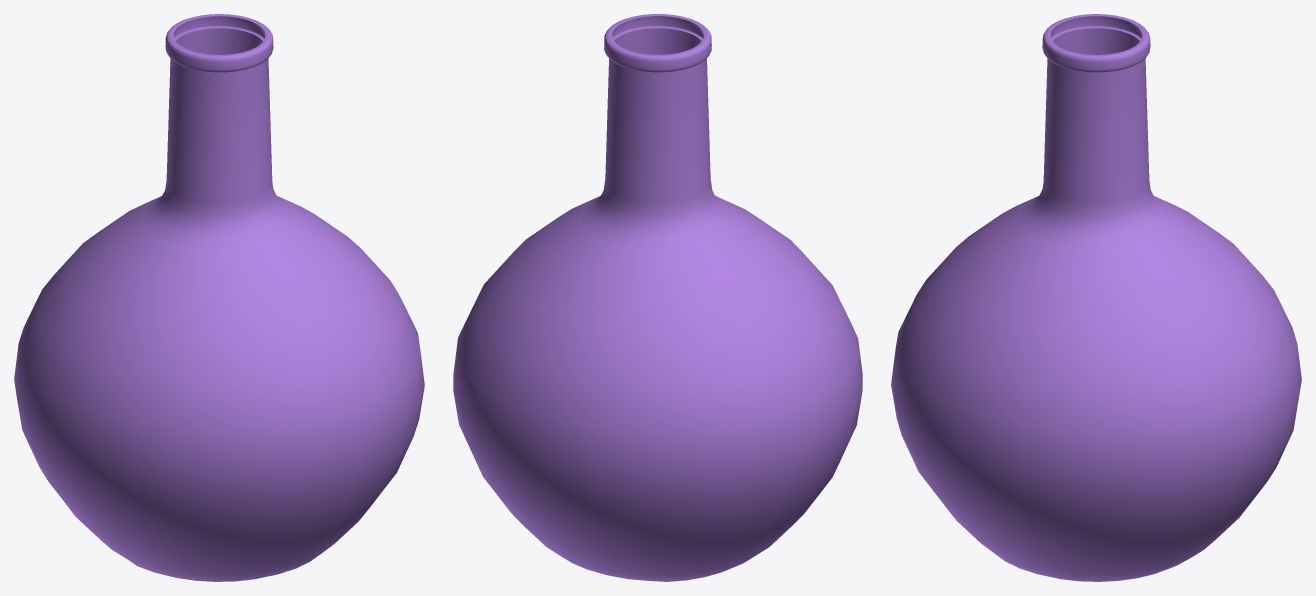
Rendered from Vase.fbx.
3 renders of one model, left to right at view 1: azimuth 30°, elevation 25°; view 2: azimuth 150°, elevation 25°; view 3: azimuth 270°, elevation 25°, orthographic.
Visible parts, largest first — view 1: Matraz; view 2: Matraz; view 3: Matraz.
Part boxes in pixels (left/top/right/bottom): Matraz: left=14, top=14, right=424, bottom=581; Matraz: left=453, top=14, right=862, bottom=581; Matraz: left=891, top=14, right=1301, bottom=581.
Size of the model in its own units: 12.57 by 17.2 by 12.57.
